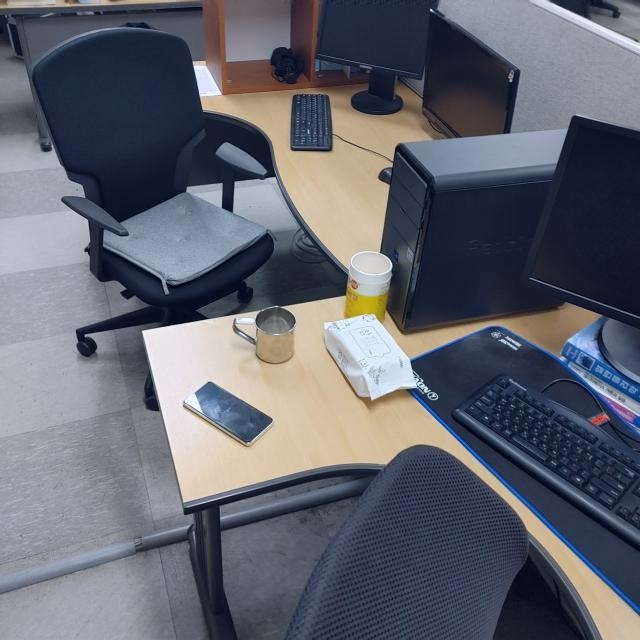cup: (230, 304, 298, 364)
phone: (181, 380, 275, 446)
